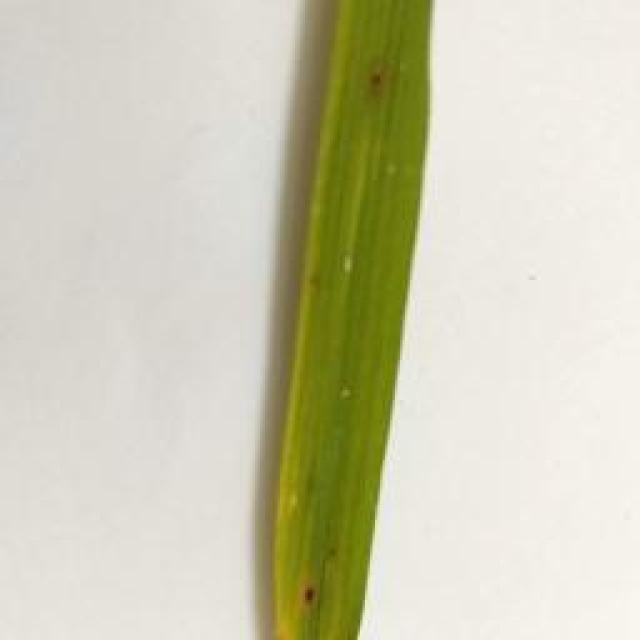Brown_Spot: (295, 573, 321, 610), (364, 57, 389, 92)
